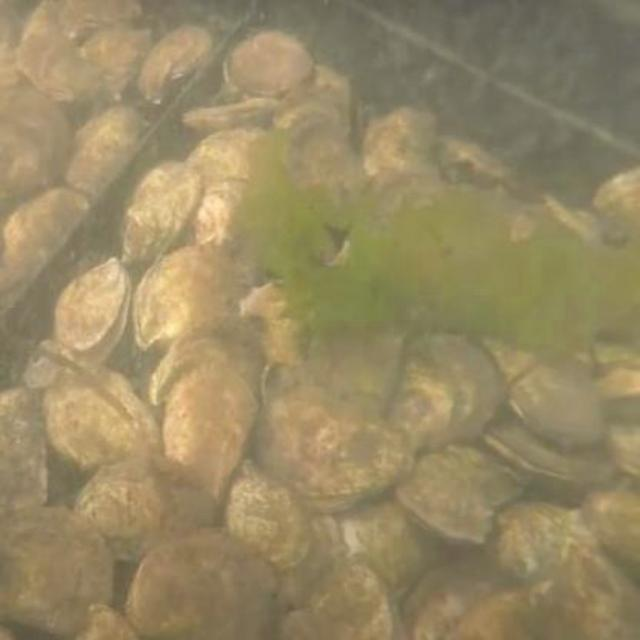Oyster-Closed: (252, 382, 412, 508), (71, 455, 218, 567), (127, 528, 276, 638), (0, 507, 114, 635), (163, 354, 260, 493), (39, 368, 160, 466), (403, 334, 502, 451), (279, 104, 371, 229), (451, 576, 635, 638), (135, 249, 251, 347), (386, 455, 499, 547), (153, 314, 263, 402), (227, 456, 312, 560), (274, 570, 392, 638), (123, 162, 203, 262), (0, 90, 69, 204), (511, 368, 601, 443), (386, 350, 454, 448), (20, 27, 101, 104), (226, 29, 315, 98), (241, 283, 312, 367), (68, 107, 138, 187), (142, 24, 215, 100), (0, 387, 46, 507), (498, 503, 572, 576), (7, 188, 82, 258), (439, 447, 530, 504), (181, 180, 247, 255), (364, 107, 436, 174), (81, 28, 149, 96), (181, 129, 265, 184), (580, 486, 638, 561), (185, 93, 274, 127), (593, 174, 638, 213), (596, 370, 638, 408)
Oyster-Open: (56, 257, 131, 364), (483, 423, 584, 479)
